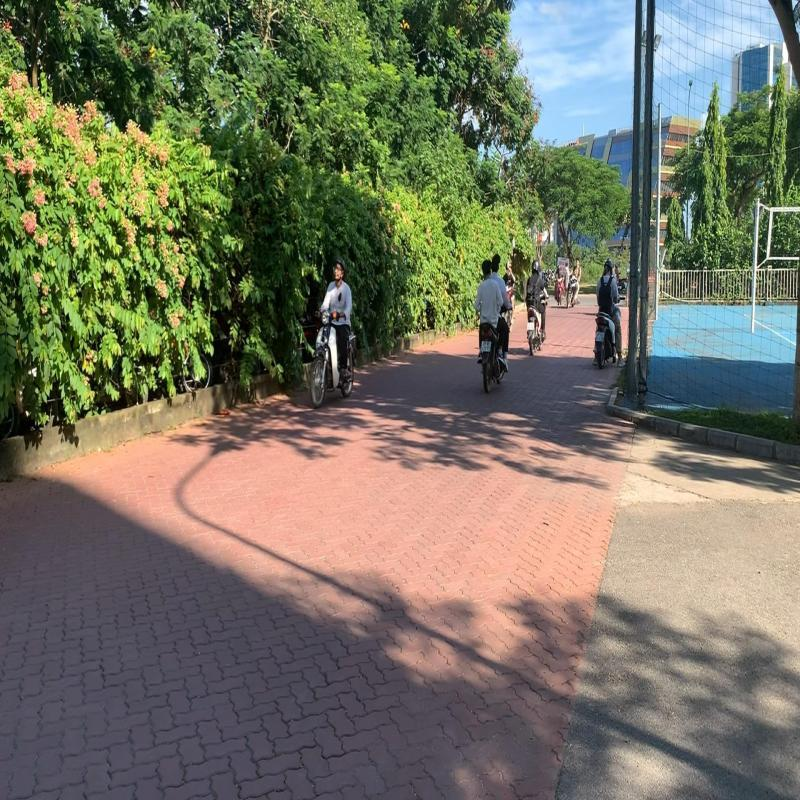nohelmet: (481, 257, 492, 278), (492, 251, 502, 273)
